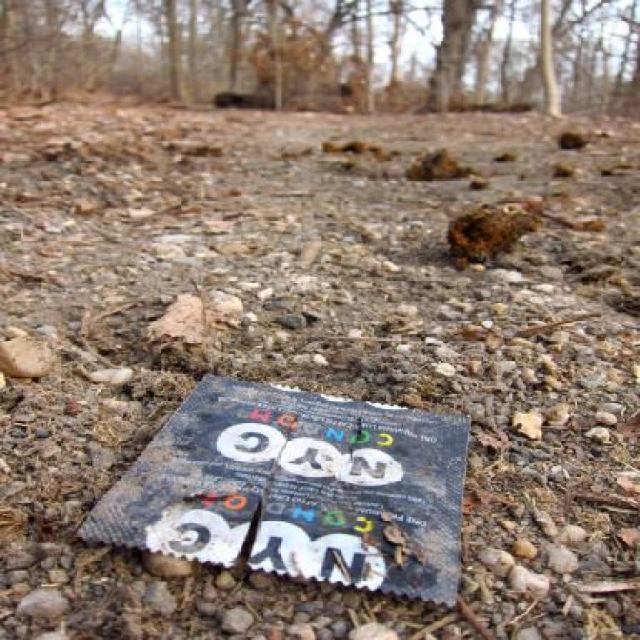garbage: (0, 235, 528, 608), (118, 265, 300, 390)
